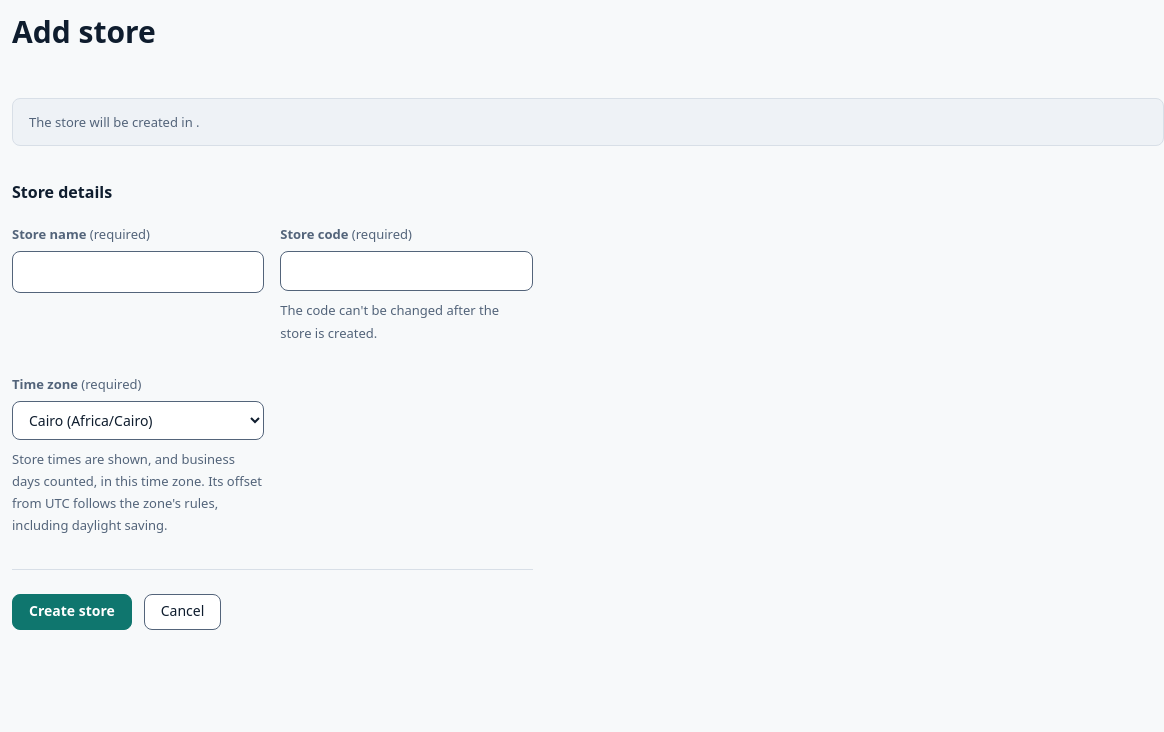
Test: StoreForm create › 409 store-code conflict -> inline on the code field, no route change
This screenshot has width=1164, height=732.
Type "DUP" into the field labelled "Store code (required)".
click(406, 271); type("DUP")  # box [280, 251, 533, 291]
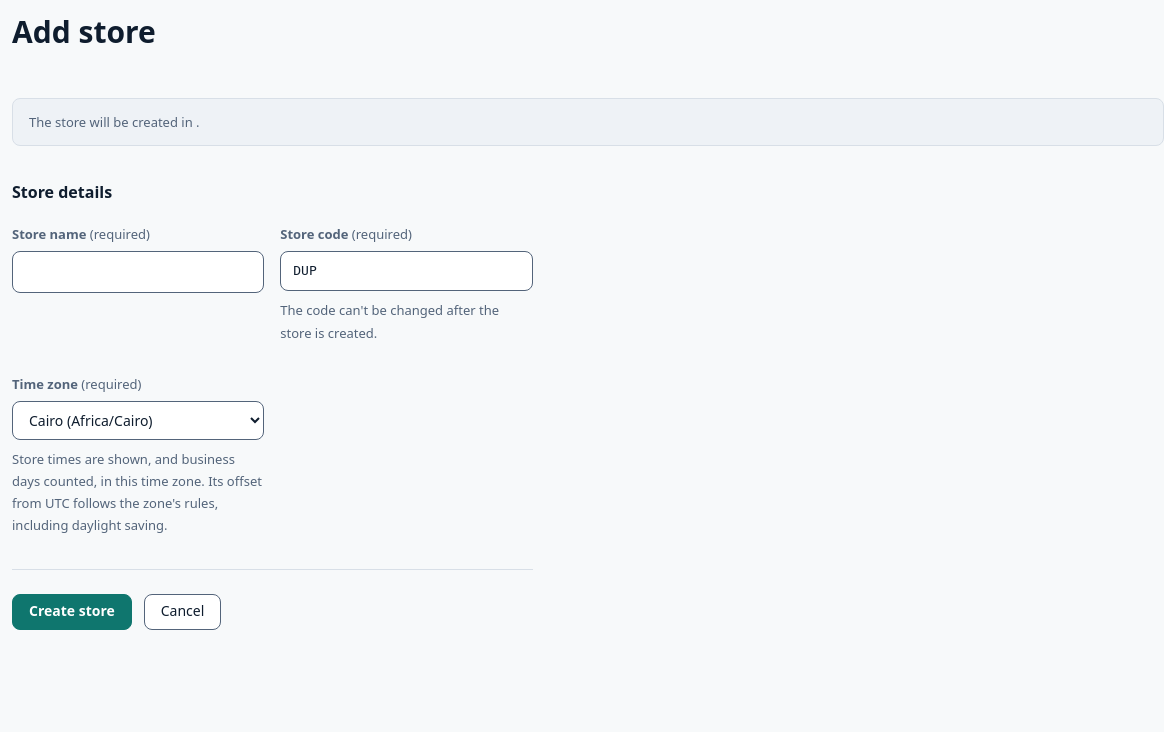
Type "Dup Store" into the field labelled "Store name (required)".
click(138, 272); type("Dup Store")  # box [12, 251, 264, 293]
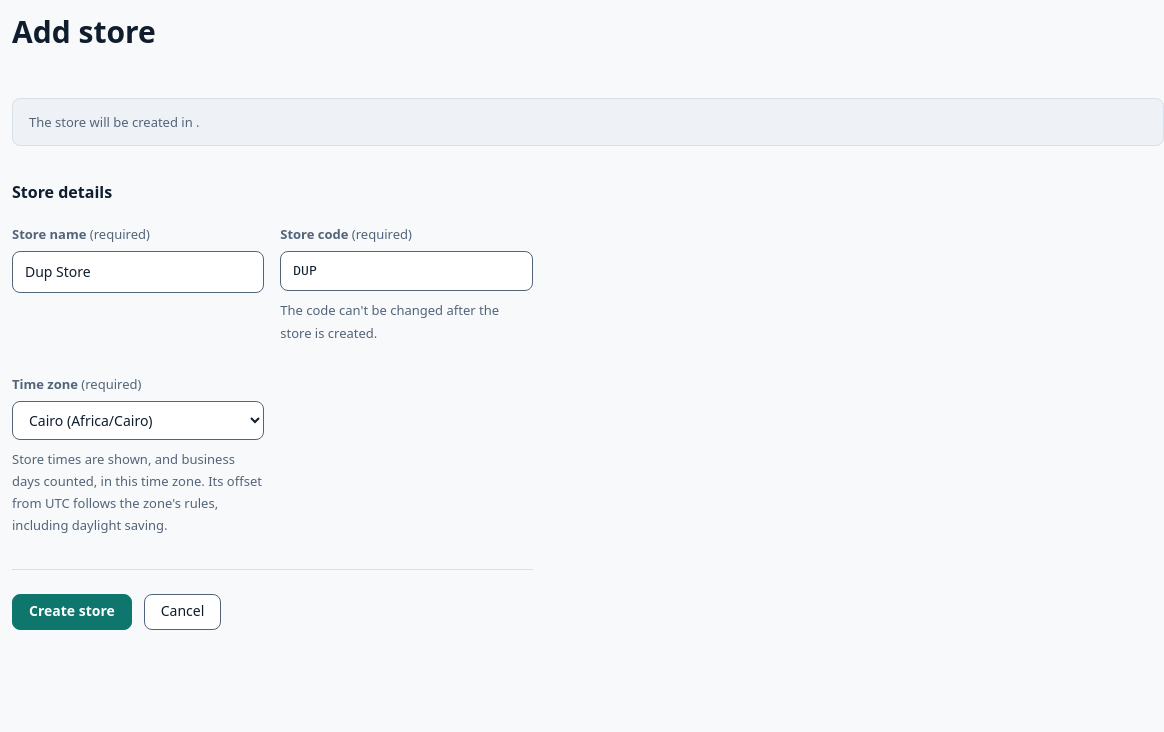
Click the button "Create store".
click(72, 612)  # box [12, 594, 132, 630]
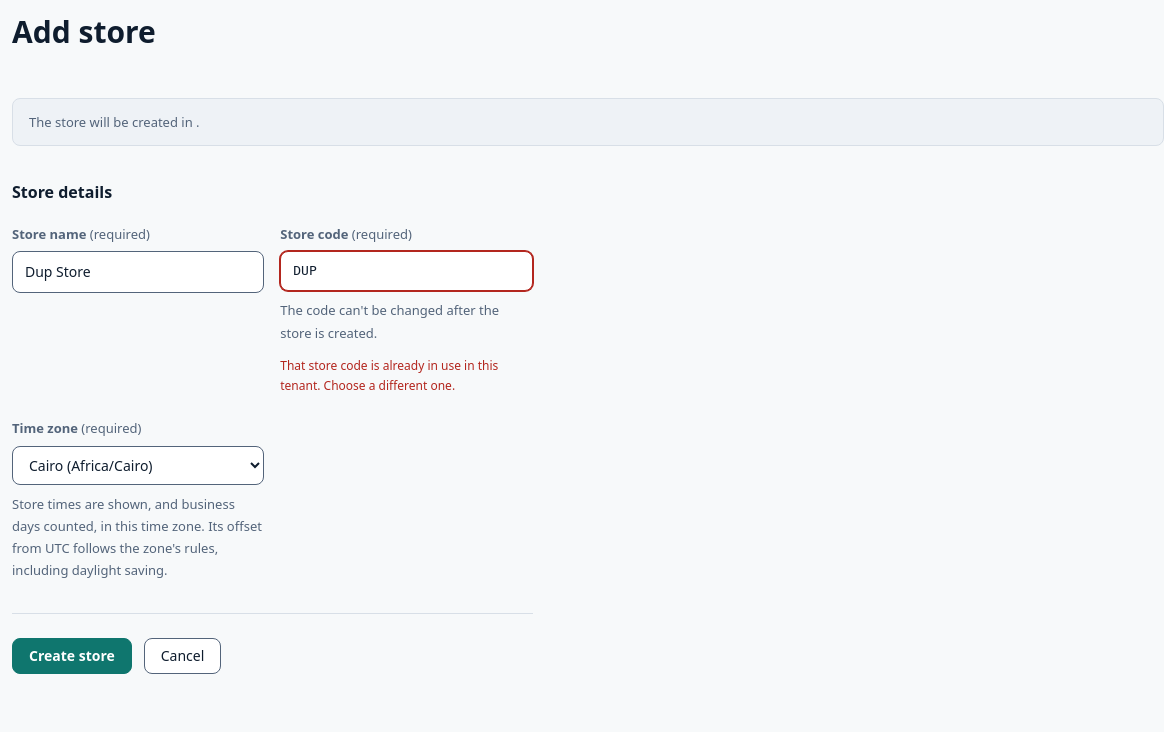
Expected: the text "That store code is already in use in this tenant. Choose a different one." is shown, [280, 356, 533, 396]
